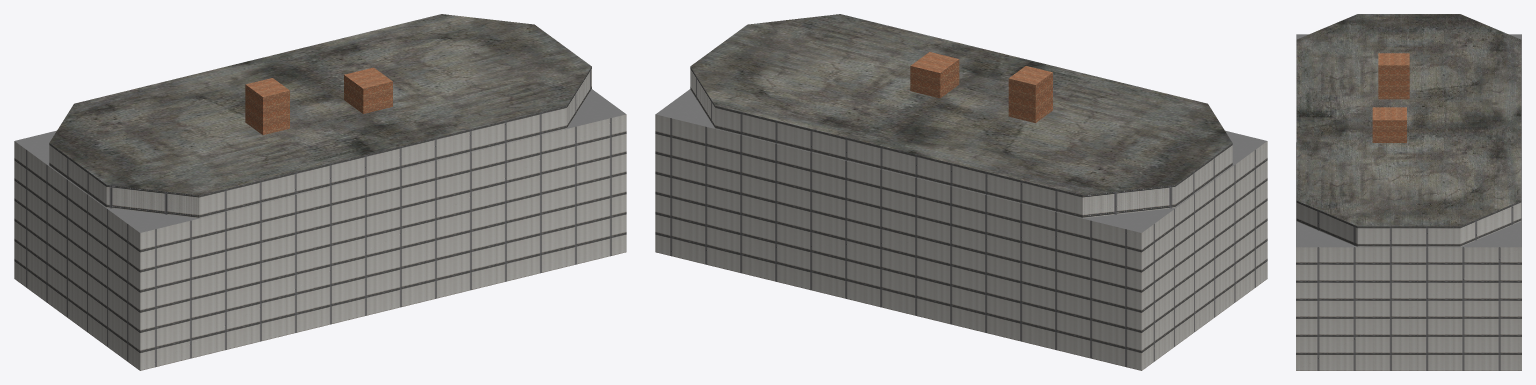
File: LOD01_Building_8stores_Office.obj
3 views of the same model, side by side, from view 1: azimuth 30°, elevation 25°; view 2: azimuth 150°, elevation 25°; view 3: azimuth 270°, elevation 25° (orthographic). The views are drawn at different scales.
Visible parts, largest first — view 1: LOD01_Building_8stores_Office; view 2: LOD01_Building_8stores_Office; view 3: LOD01_Building_8stores_Office.
Part boxes in pixels (x1,y1,x2,y2): LOD01_Building_8stores_Office: (14,14,626,370); LOD01_Building_8stores_Office: (655,14,1267,370); LOD01_Building_8stores_Office: (1296,14,1521,370).
Size of the model in its own units: 27.8 by 10.87 by 12.45.
